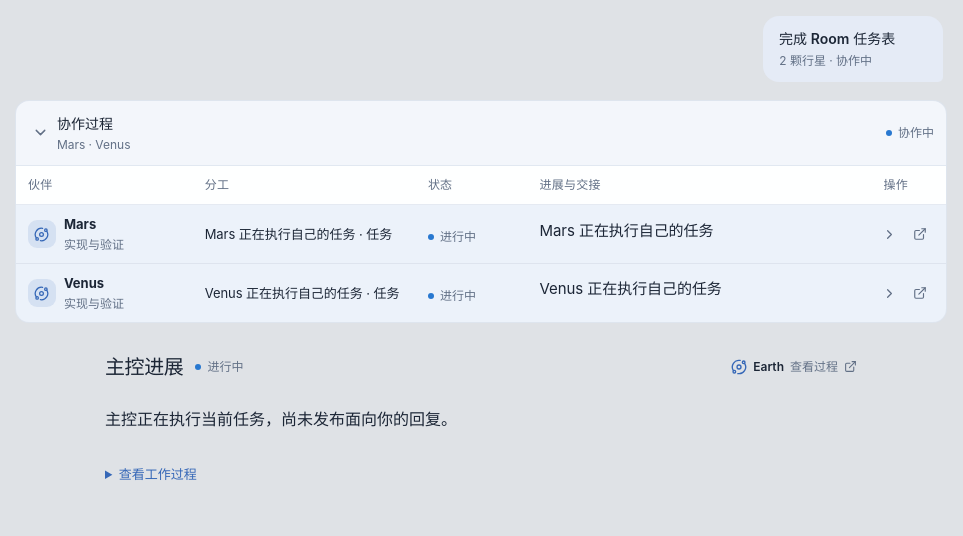
Test: PawRoomRoundSheet (UR-170/172) › keeps the coordinator progress outside the worker table and discloses process text explicitly
Check: the element named "Earth 主控进展" shows "主控正在执行当前任务，尚未发布面向你的回复。", box [105,409,457,429]
Check: the element named "Earth 主控进展" does not show "主控已经汇总当前公开进展", box [101,343,861,497]
Click the heading "查看工作过程" at (158, 474), box [119,466,197,482]
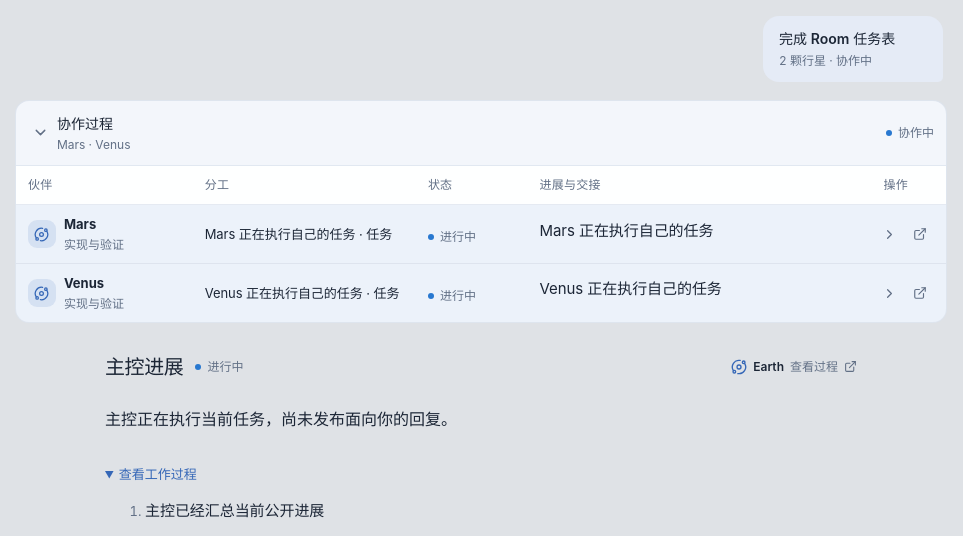
Check: the number of rows is 3, box [16,166,946,205]; [16,205,946,264]; [16,264,946,322]
Check: the element named "Earth 主控进展" shows "主控已经汇总当前公开进展", box [145,500,324,520]
